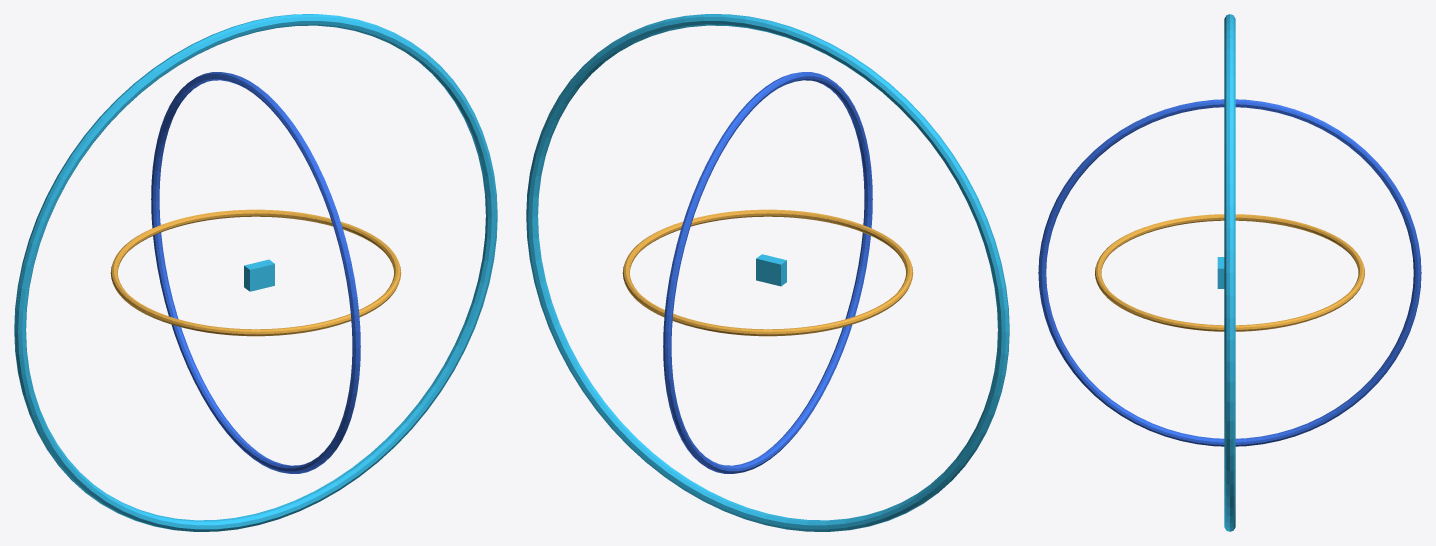
File: 15_L84_AngularMomentumVectorHologram.fbx
The picture shows the model from 3 angles, left to right: view 1: azimuth 30°, elevation 25°; view 2: azimuth 150°, elevation 25°; view 3: azimuth 270°, elevation 25°; orthographic projection. The views are drawn at different scales.
Visible parts, largest first — view 1: L84_AngularMomentumVectorHologram, L84_AngularMomentumVectorHologram_Part_0003; view 2: L84_AngularMomentumVectorHologram, L84_AngularMomentumVectorHologram_Part_0003; view 3: L84_AngularMomentumVectorHologram.
Part boxes in pixels (<box>): L84_AngularMomentumVectorHologram: <box>14,14,497,531</box>; L84_AngularMomentumVectorHologram_Part_0003: <box>244,259,274,291</box>; L84_AngularMomentumVectorHologram: <box>526,14,1009,531</box>; L84_AngularMomentumVectorHologram_Part_0003: <box>756,254,786,286</box>; L84_AngularMomentumVectorHologram: <box>1038,14,1421,531</box>.
Bounding box in the file's own units: 231 × 231 × 171.
